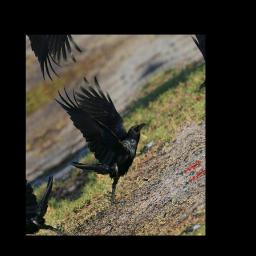Crow: (36, 55, 172, 217)
